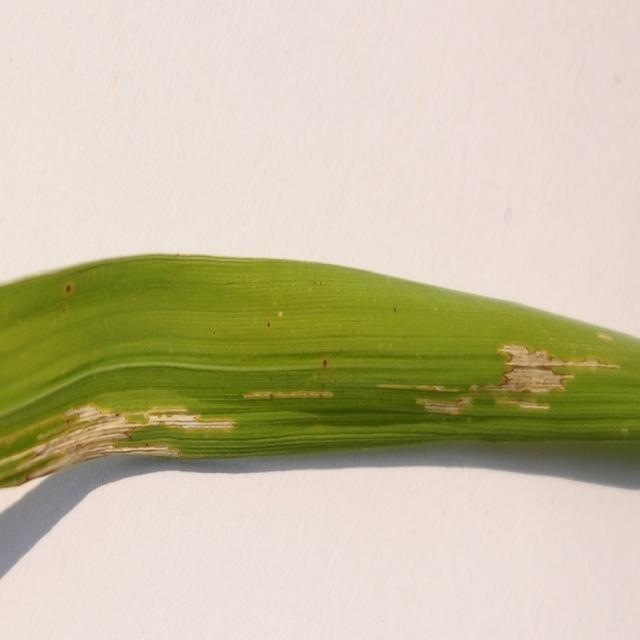leaf blight: (398, 331, 630, 452), (0, 373, 242, 485)
